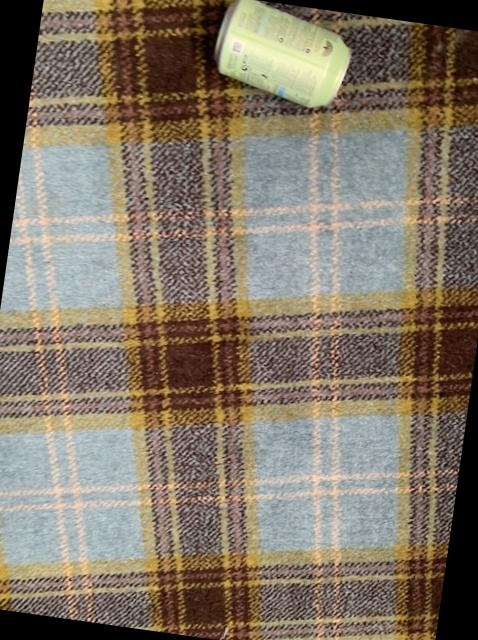metal: (212, 0, 348, 108)
